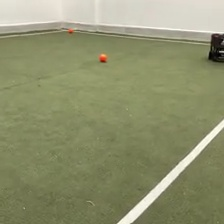ball: (98, 52, 108, 63), (67, 26, 74, 35)
robot: (207, 31, 224, 64)
